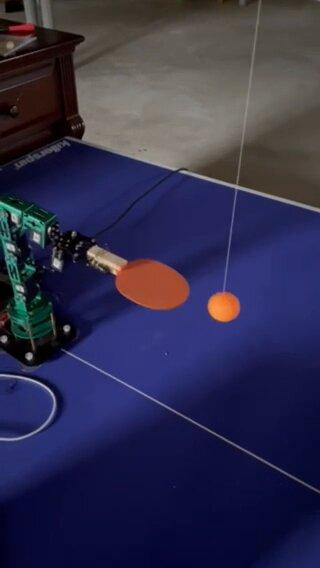oball: (209, 291, 239, 321)
